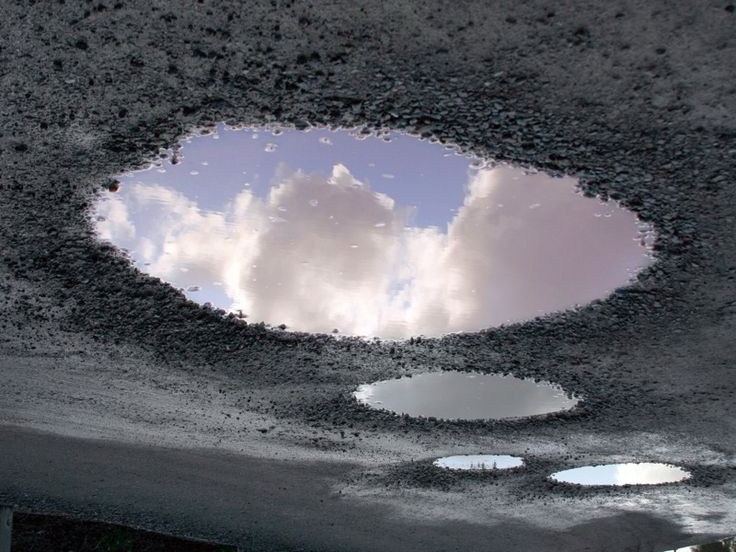pothole: (55, 125, 684, 344), (350, 371, 582, 424), (538, 459, 702, 491), (423, 451, 524, 478)
